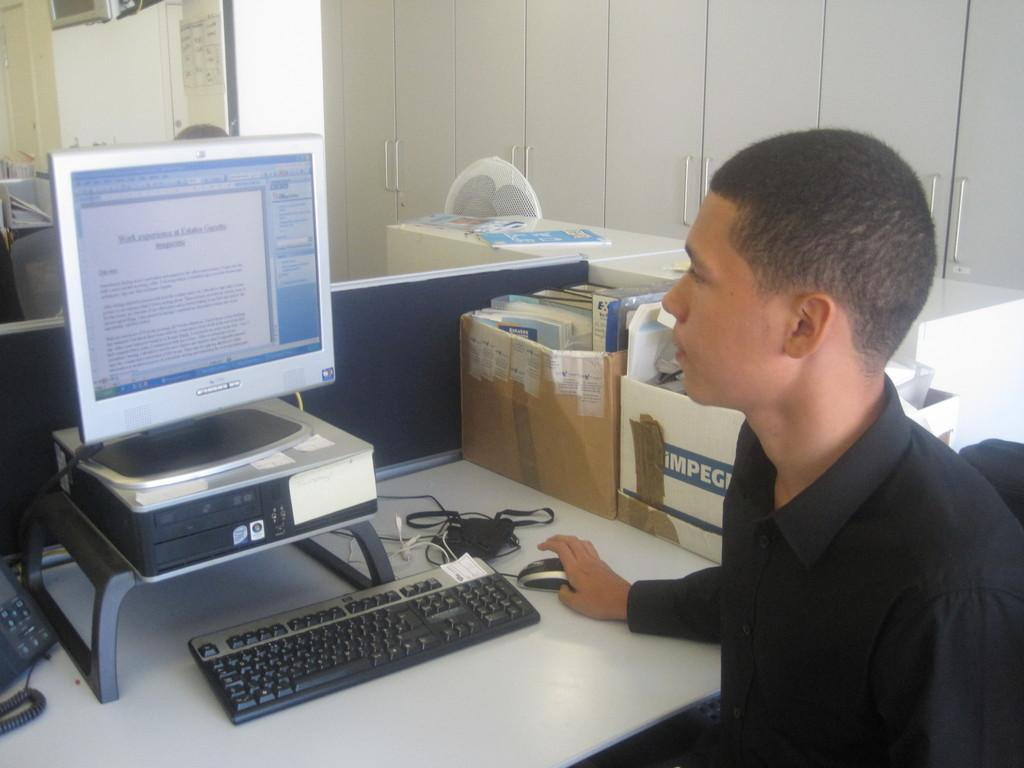Computer-keyboard: (186, 553, 543, 726)
Computer-monitor: (33, 143, 349, 462)
